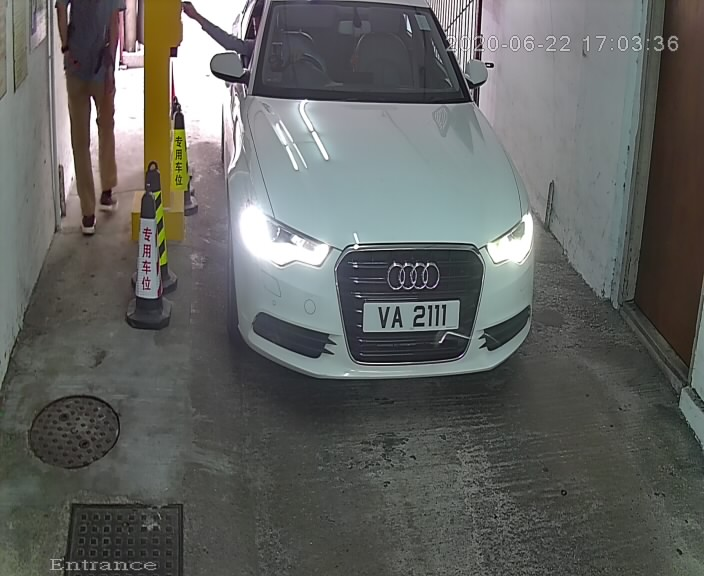privatecar: (191, 2, 567, 410)
